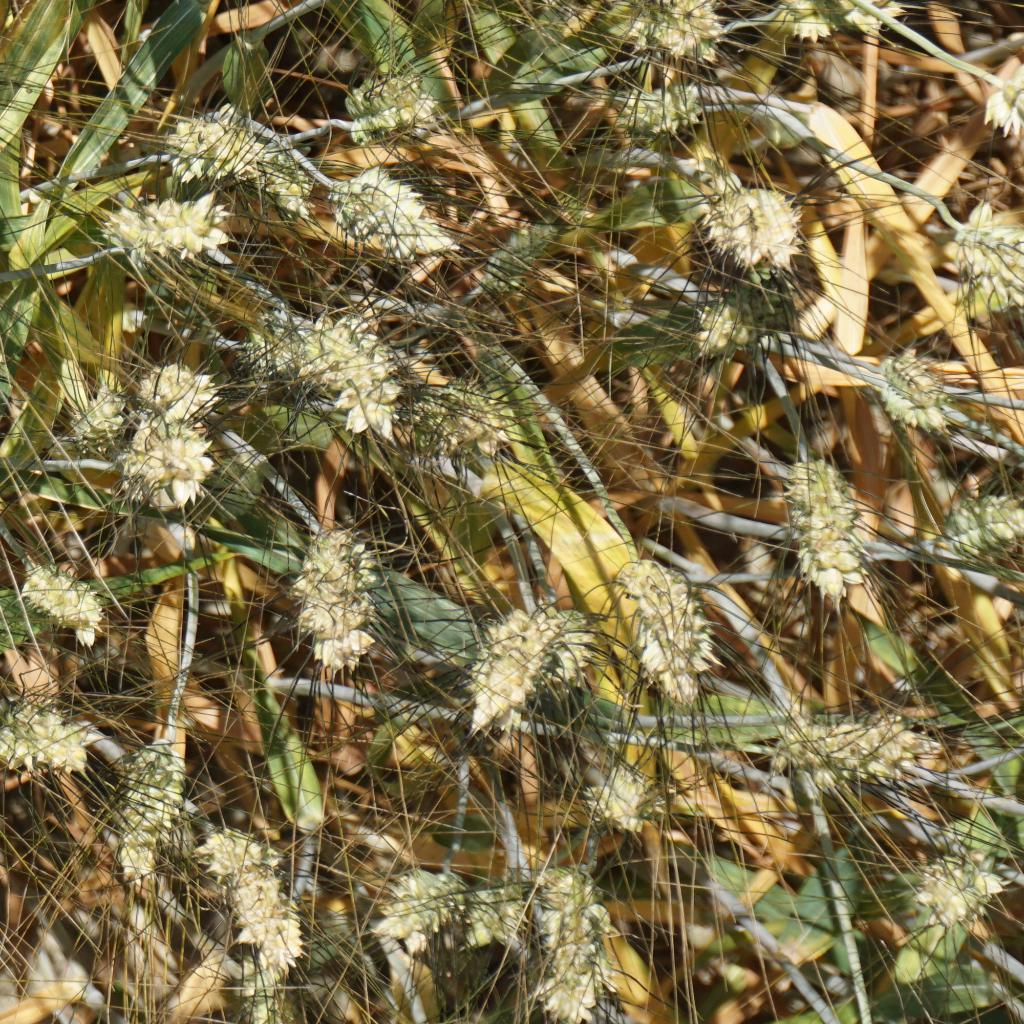0-0: (192, 811, 316, 984), (510, 854, 635, 1024), (773, 691, 943, 811), (766, 435, 879, 610), (604, 546, 723, 711), (164, 88, 318, 207), (453, 581, 568, 726), (303, 305, 415, 439), (292, 521, 386, 668), (414, 359, 527, 478), (113, 721, 194, 881), (320, 166, 461, 256), (702, 166, 808, 275), (88, 197, 239, 271), (0, 689, 104, 783), (0, 553, 122, 632), (109, 425, 220, 510), (865, 342, 968, 433), (944, 195, 1024, 308), (905, 851, 1007, 932), (608, 0, 726, 67), (342, 51, 431, 139), (369, 862, 453, 945), (770, 0, 918, 47), (932, 484, 1024, 558), (126, 354, 226, 418), (468, 219, 558, 290), (51, 356, 133, 433), (608, 78, 700, 138), (673, 301, 769, 358), (593, 764, 664, 834), (465, 870, 526, 944), (245, 297, 299, 380), (0, 323, 17, 438)
